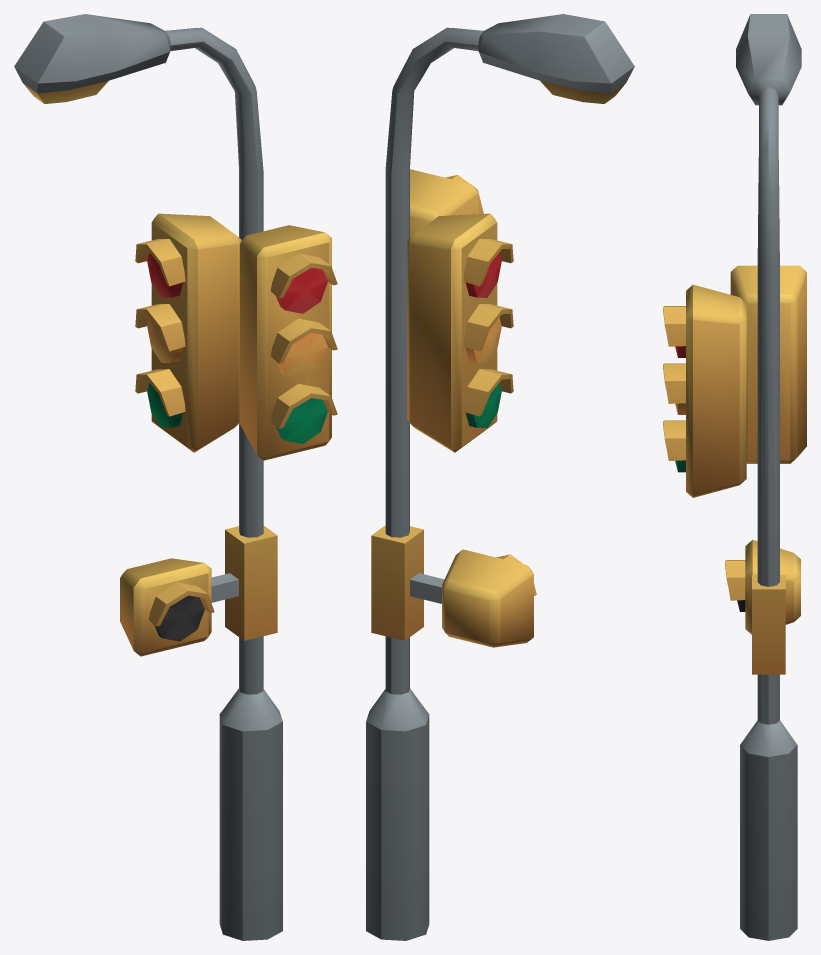
File: trafficlight_b_free_model.glb
3 renders of one model, left to right at view 1: azimuth 30°, elevation 25°; view 2: azimuth 150°, elevation 25°; view 3: azimuth 270°, elevation 25°, orthographic. The views are drawn at different scales.
Visible parts, largest first — view 1: trafficlight_B; view 2: trafficlight_B; view 3: trafficlight_B.
Boxes of the visible parts, x1=… form: trafficlight_B: x1=14, y1=14, x2=337, y2=940; trafficlight_B: x1=366, y1=14, x2=634, y2=940; trafficlight_B: x1=663, y1=14, x2=806, y2=940.
Bounding box in the file's own units: 0.2791 × 0.9599 × 0.1506.
1 material, 1 textured.
